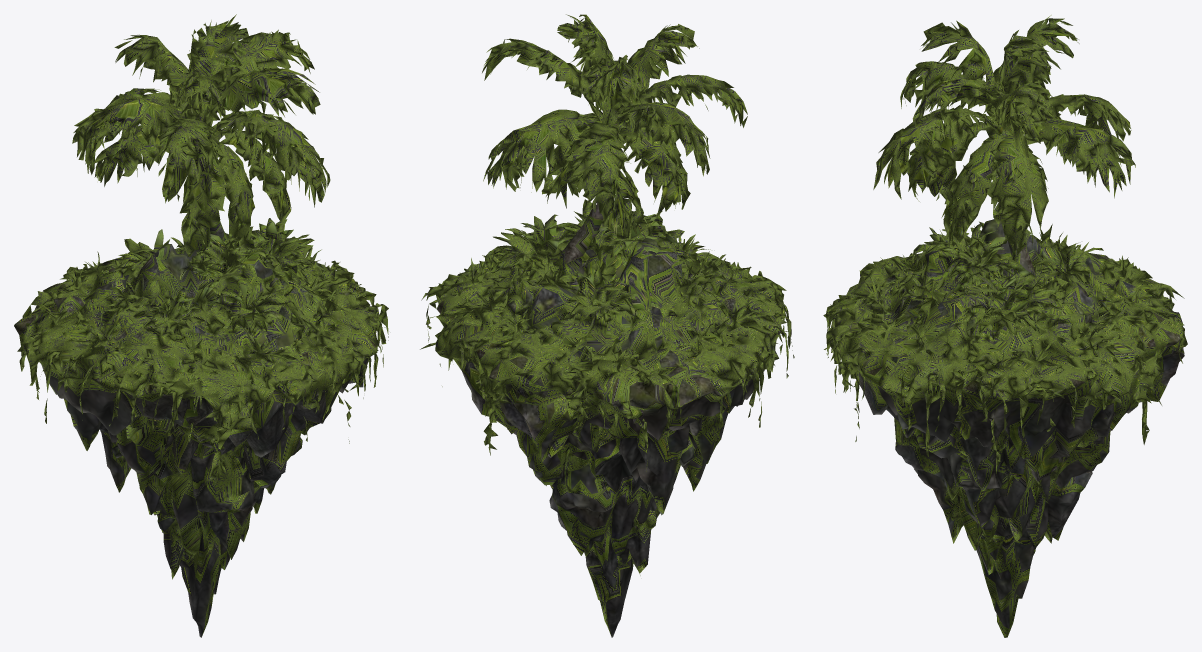
The model's file is palm-island.glb.
3 views of the same model, side by side, from view 1: azimuth 30°, elevation 25°; view 2: azimuth 150°, elevation 25°; view 3: azimuth 270°, elevation 25° (orthographic).
Size of the model in its own units: 1.05 by 1.9 by 1.02.
1 material, 1 textured.
